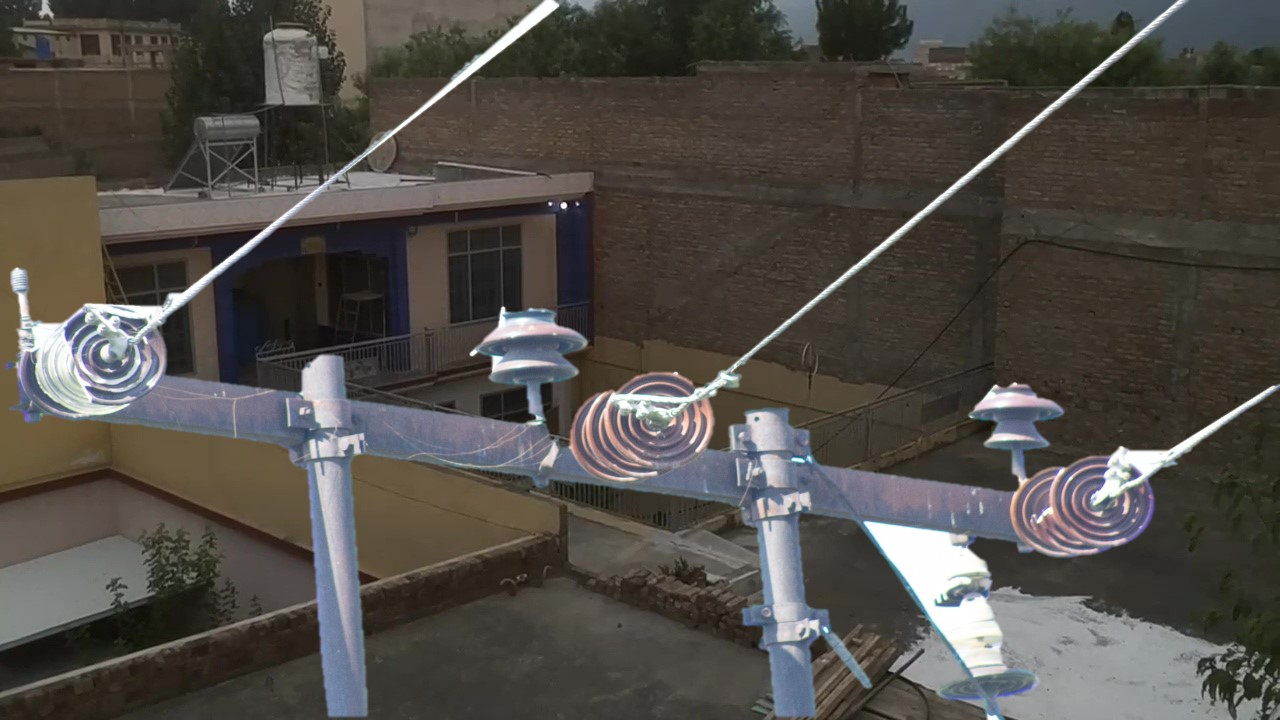defect_disc: (62, 298, 172, 413)
insulator_disc: (601, 362, 719, 473), (1046, 442, 1161, 554)
